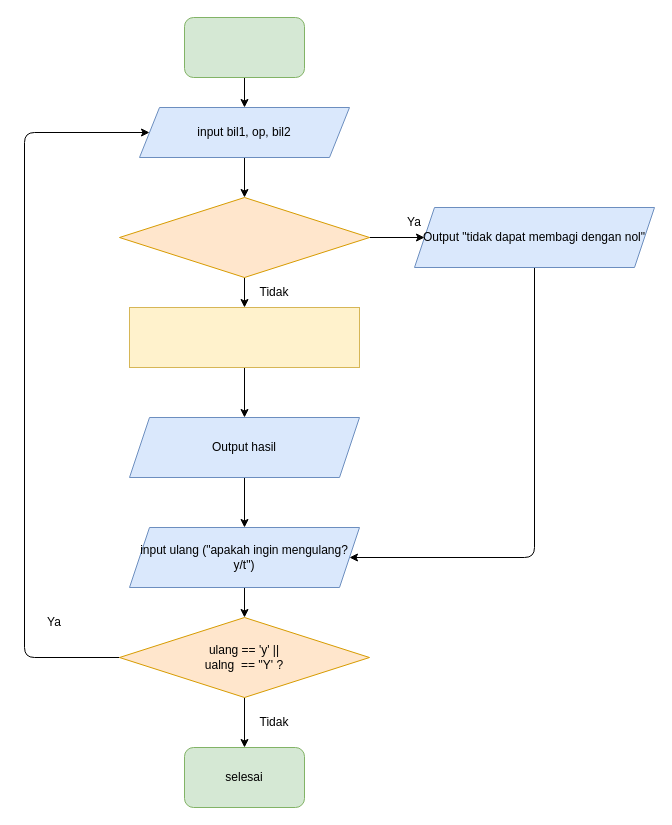
The diagram is 672 pixels wide and 825 high, and some of its shapes have lost their labels. Here are the shapes that lost their labels. From the top down, the centre of each, then its label:
[244,47]: mulai
[244,237]: op == "/" && bil2 ==0 ?
[244,337]: Hitung hasil sesuai op (+, -, *,/)
